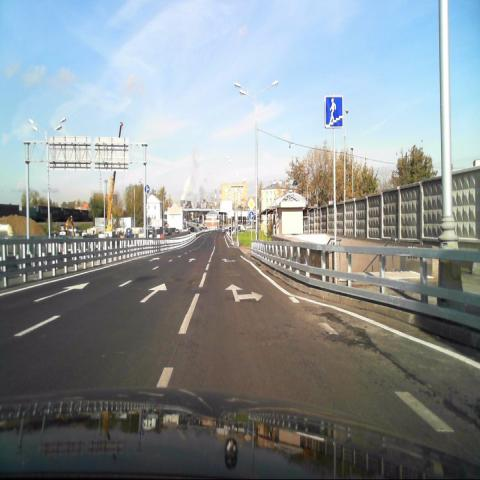6_6: (324, 94, 344, 126)
